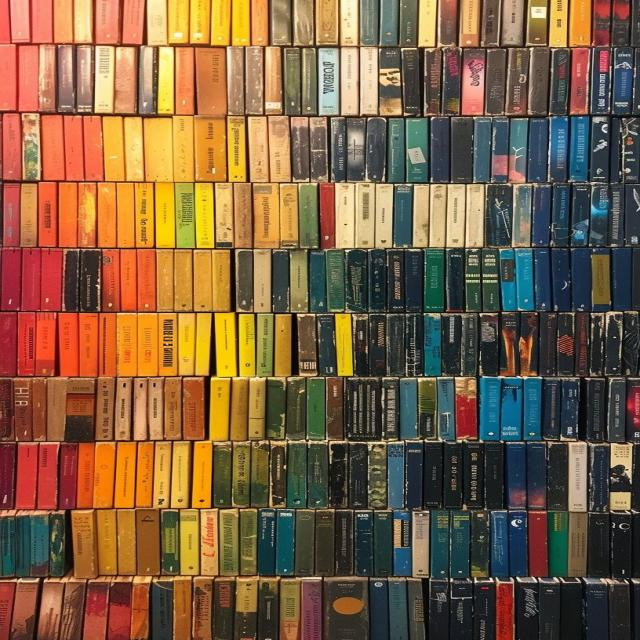book: (193, 117, 225, 182), (8, 579, 42, 640), (196, 48, 226, 116), (65, 379, 96, 443), (143, 116, 172, 183), (70, 510, 98, 577), (35, 580, 66, 640), (606, 512, 634, 578), (14, 443, 40, 511), (532, 578, 560, 640), (602, 578, 630, 640), (608, 444, 632, 516), (134, 509, 160, 575), (106, 580, 134, 640), (35, 444, 60, 511), (581, 578, 608, 640), (17, 44, 41, 113), (82, 580, 110, 639), (484, 184, 510, 247), (557, 577, 583, 640), (377, 47, 401, 115), (113, 46, 137, 114), (38, 246, 62, 314), (460, 49, 485, 114), (57, 443, 81, 510), (40, 115, 64, 182), (512, 577, 538, 638), (526, 48, 550, 114), (609, 48, 633, 114), (27, 512, 51, 578), (115, 507, 138, 575), (44, 378, 68, 443), (448, 578, 474, 638), (366, 578, 391, 640), (149, 577, 174, 639), (503, 443, 526, 510), (95, 508, 118, 575), (92, 443, 115, 510), (404, 118, 428, 182), (62, 116, 86, 180), (588, 443, 610, 512), (448, 510, 470, 579), (174, 48, 196, 117), (566, 442, 588, 511), (470, 579, 495, 639), (386, 578, 411, 638), (588, 48, 610, 116), (93, 46, 115, 114), (483, 49, 506, 114), (92, 378, 115, 443), (267, 117, 290, 182), (252, 184, 276, 246), (420, 442, 442, 509), (545, 444, 567, 511), (441, 442, 463, 509), (460, 442, 482, 509), (586, 511, 608, 578), (20, 246, 42, 313), (170, 441, 192, 508), (114, 442, 136, 509), (498, 378, 521, 442), (588, 181, 611, 245), (102, 116, 125, 180), (2, 112, 23, 182), (313, 510, 335, 576), (588, 115, 610, 181), (317, 48, 339, 114), (568, 48, 590, 114), (247, 116, 269, 182), (454, 375, 476, 441), (172, 116, 194, 182), (122, 116, 144, 182), (451, 119, 474, 182), (243, 46, 264, 115), (300, 578, 324, 638), (234, 577, 258, 637), (568, 116, 590, 181), (525, 442, 546, 510), (506, 508, 527, 576), (609, 248, 632, 310), (182, 378, 205, 440), (526, 118, 548, 182), (565, 511, 587, 575), (208, 379, 230, 443), (47, 512, 69, 576), (82, 116, 104, 180), (482, 443, 503, 510), (440, 49, 461, 116), (74, 443, 95, 510), (478, 378, 501, 439), (34, 314, 57, 375), (213, 314, 236, 375), (20, 112, 40, 182), (548, 48, 569, 114), (584, 380, 606, 443), (293, 509, 314, 575), (286, 442, 307, 508), (605, 378, 626, 444), (469, 512, 490, 578), (211, 442, 232, 508), (112, 378, 134, 441), (546, 512, 568, 575), (178, 508, 199, 574), (137, 46, 157, 115), (255, 577, 278, 637), (427, 578, 450, 638), (212, 578, 235, 638), (12, 378, 33, 443), (226, 116, 247, 181), (191, 442, 212, 507), (558, 380, 580, 442), (115, 315, 137, 377), (55, 45, 75, 113), (37, 45, 57, 113), (278, 579, 301, 638), (93, 0, 123, 45), (429, 117, 450, 181), (471, 118, 492, 182), (547, 118, 568, 182), (57, 182, 78, 246), (430, 511, 450, 578), (79, 250, 102, 308), (569, 183, 590, 246), (265, 378, 286, 441), (521, 378, 542, 441), (193, 183, 214, 246), (77, 314, 98, 377), (400, 48, 420, 114), (570, 248, 592, 308), (354, 509, 374, 575), (602, 310, 622, 376), (372, 510, 392, 576), (358, 47, 378, 113), (250, 441, 270, 507), (391, 511, 411, 577), (218, 510, 238, 576), (152, 442, 172, 508), (199, 510, 219, 576), (174, 183, 195, 245), (137, 314, 158, 376), (256, 509, 276, 574), (231, 443, 251, 508), (618, 118, 638, 183), (226, 46, 245, 114), (74, 45, 93, 113), (1, 246, 22, 307), (366, 118, 386, 182), (345, 118, 365, 182), (507, 119, 527, 183), (540, 378, 560, 442), (274, 509, 294, 573), (160, 510, 180, 574), (527, 512, 547, 576), (115, 183, 135, 247), (404, 443, 423, 510), (282, 47, 301, 114), (263, 47, 282, 114), (0, 44, 19, 111), (391, 184, 412, 244), (499, 314, 519, 377), (229, 378, 249, 441), (17, 313, 37, 376), (96, 183, 116, 246), (416, 379, 436, 441), (404, 578, 424, 640), (38, 182, 58, 244), (155, 184, 175, 246), (386, 444, 405, 509), (422, 50, 441, 115), (238, 510, 257, 575), (411, 512, 430, 577), (498, 1, 524, 48), (156, 47, 174, 114), (513, 250, 533, 310), (237, 314, 257, 374), (493, 578, 513, 638), (435, 378, 454, 441), (19, 183, 38, 246), (340, 47, 358, 113), (247, 378, 266, 440), (2, 185, 21, 247), (619, 313, 638, 375), (0, 513, 18, 577), (0, 444, 17, 511), (621, 185, 638, 250), (457, 1, 480, 49), (567, 2, 591, 48), (498, 254, 517, 312), (147, 378, 165, 439), (256, 315, 274, 376), (121, 0, 145, 45), (269, 0, 292, 45), (525, 1, 548, 46), (590, 1, 612, 48), (7, 0, 31, 43), (291, 0, 313, 46), (608, 1, 630, 47), (30, 0, 53, 44), (436, 2, 458, 47), (547, 1, 569, 46), (145, 0, 167, 44), (316, 0, 337, 46)
